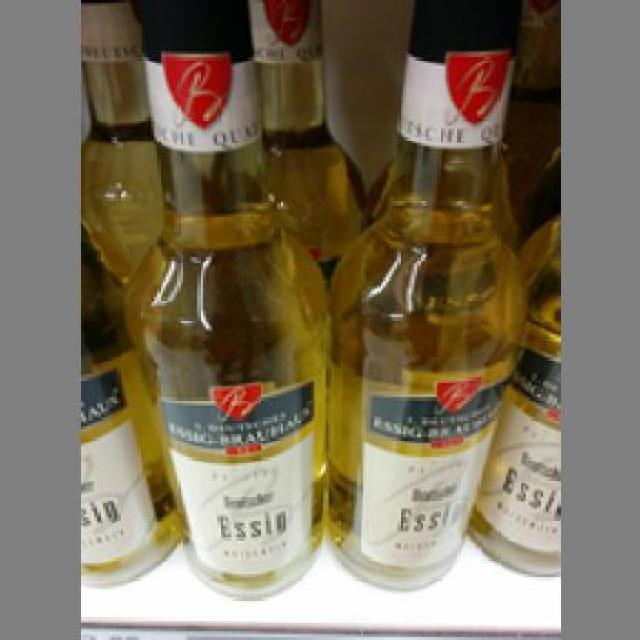Vinegar: (123, 0, 343, 600), (334, 0, 520, 597)
